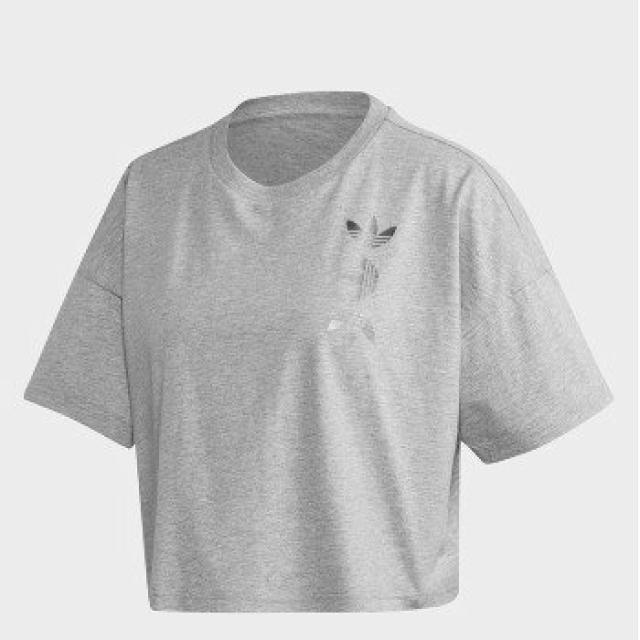Adidas: (340, 251, 413, 308), (338, 199, 398, 258), (320, 309, 382, 349)
